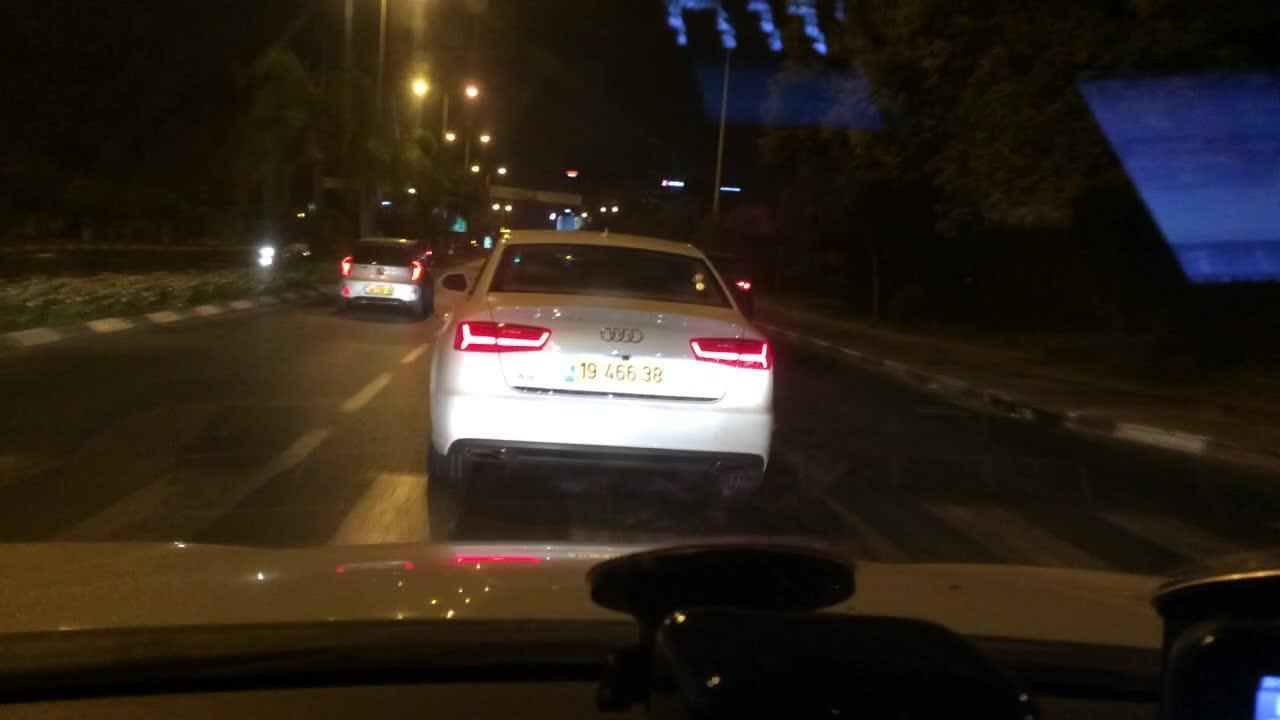Audi: (591, 314, 663, 351)
